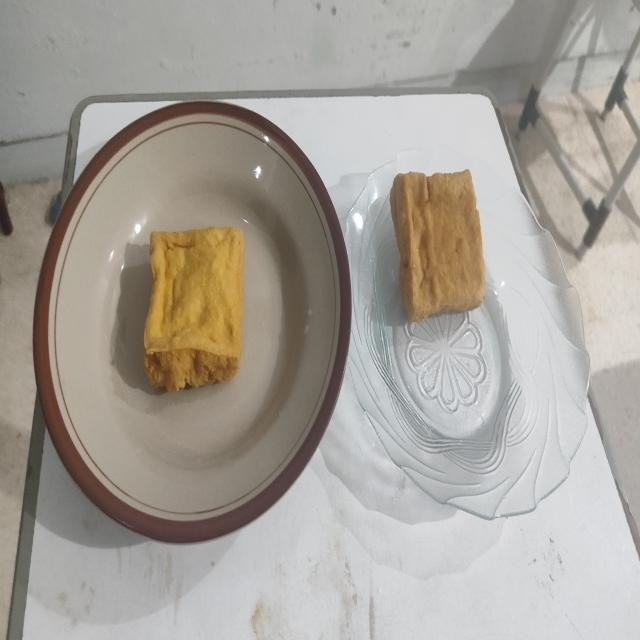tahu_goreng: (144, 227, 244, 390), (390, 170, 485, 322)
